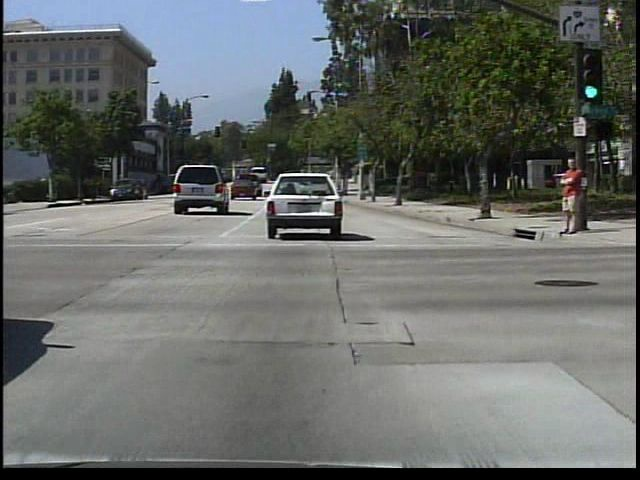person: (555, 156, 585, 240)
